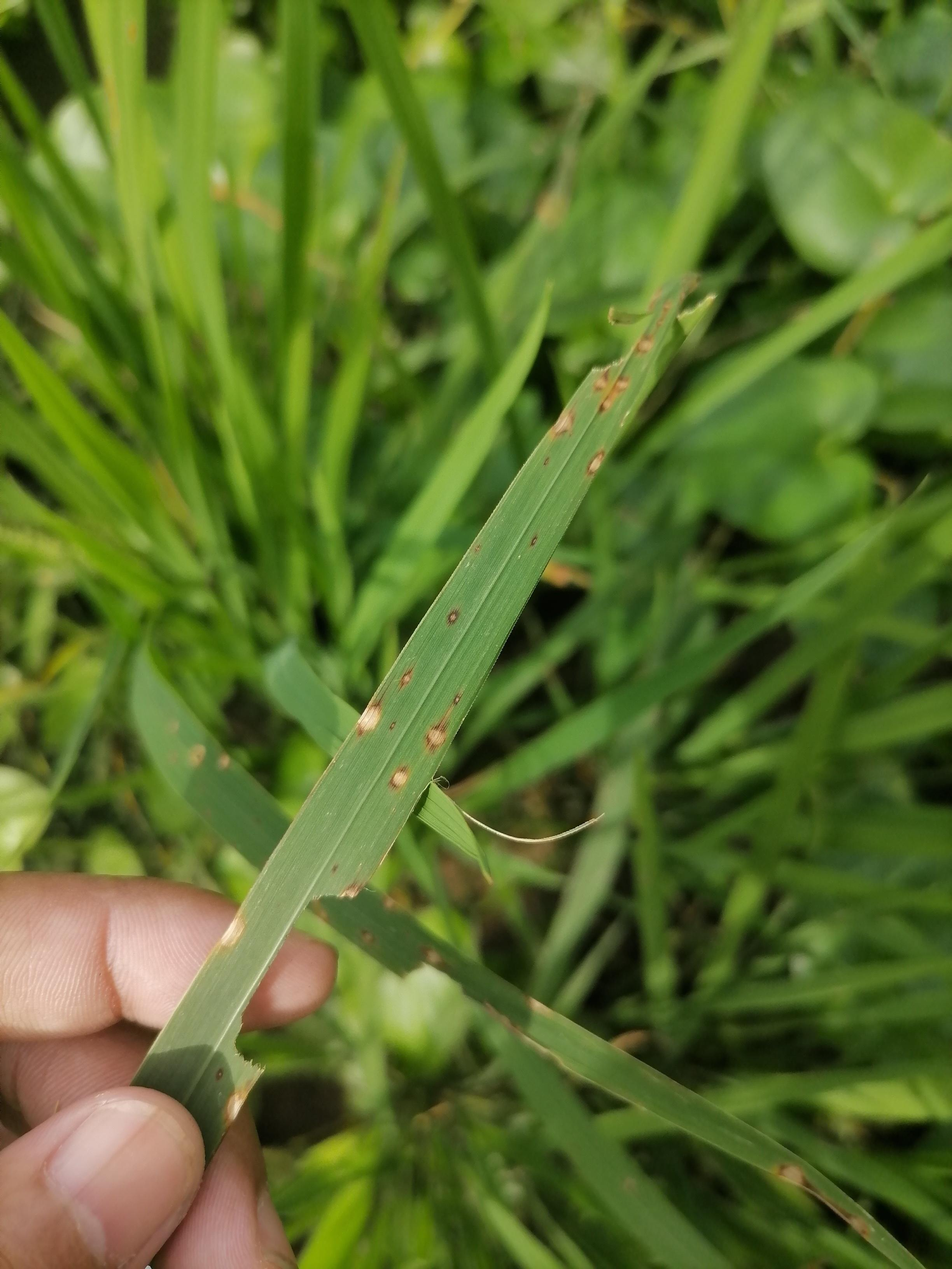Brown spot: (358, 696, 397, 754), (544, 393, 579, 455), (600, 367, 627, 408), (585, 433, 611, 470), (416, 717, 450, 744), (394, 766, 414, 798), (399, 669, 420, 693), (447, 608, 465, 631)
